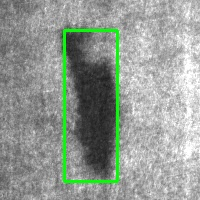patches: (64, 30, 117, 181)
